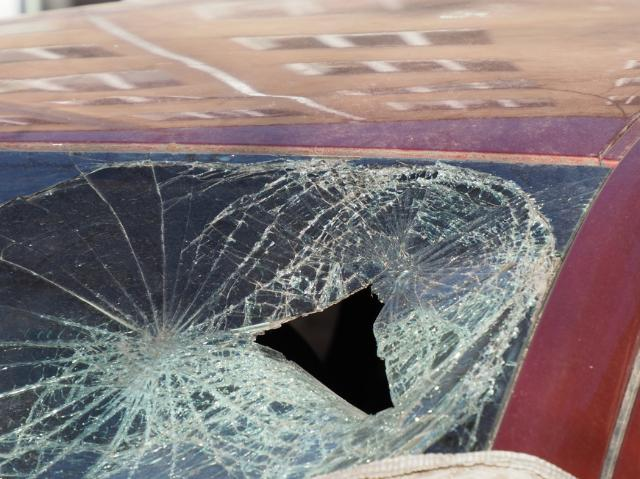Windshield: (0, 143, 620, 477)
